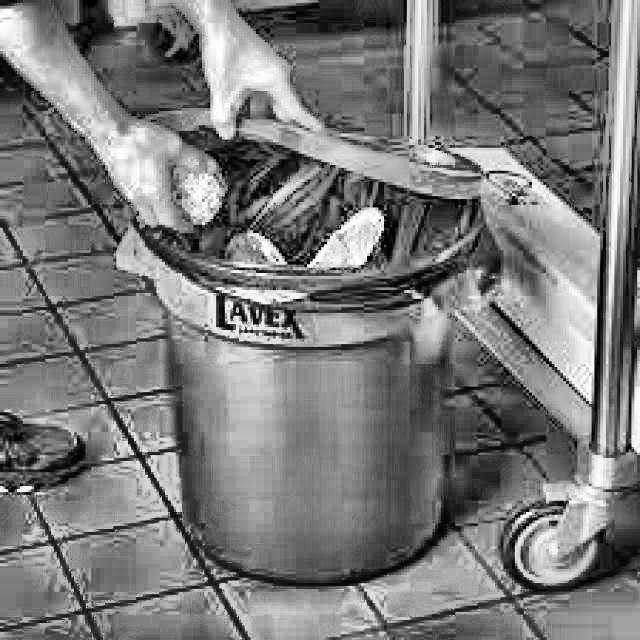Dustbin: (117, 106, 507, 599)
